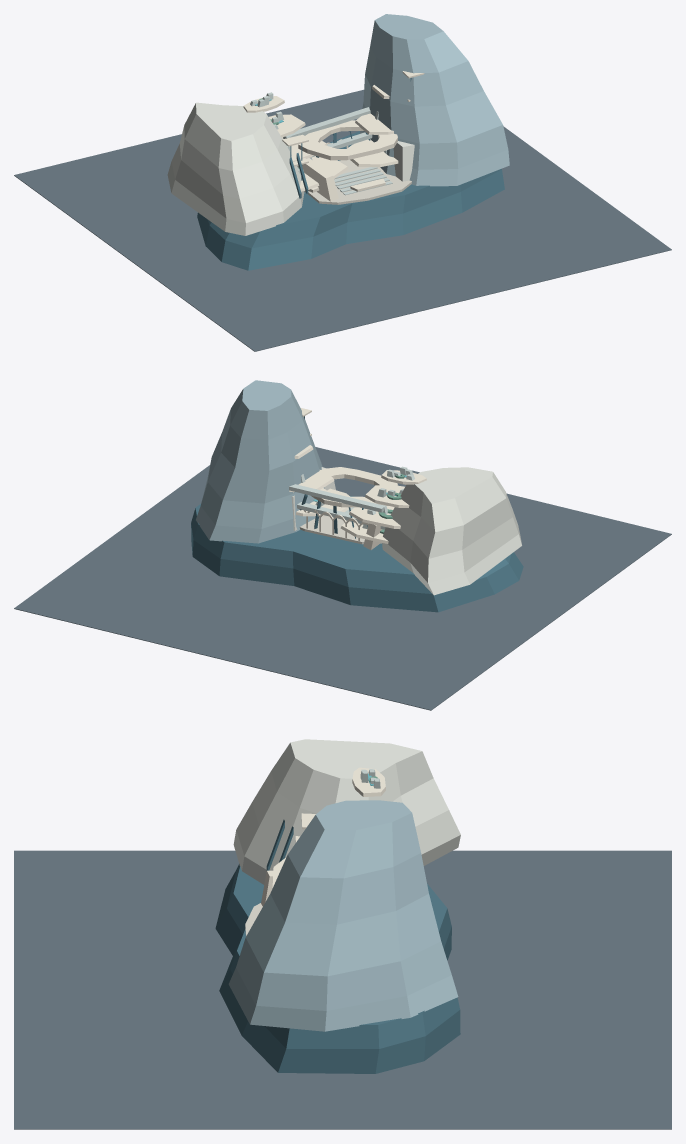
The model's file is J7R7_GUI_EDITED_ACTUAL_MODEL.glb.
3 views of the same model, one above another, from view 1: azimuth 30°, elevation 25°; view 2: azimuth 150°, elevation 25°; view 3: azimuth 270°, elevation 25° (orthographic). The views are drawn at different scales.
Visible parts, largest first — view 1: NONCANONICAL_GROUND_FRAME, 03_EAST_ASCENDING_INHABITED_ESCARPMENT, 02_WEST_INHABITED_ESCARPMENT, 01_SINGLE_INHABITED_CONTINENT_FOUNDATION, 04_HIGH_CIVIC_OCULUS, 04_GRAND_CIVIC_FORUM_ACTUAL_PUBLIC_FLOOR, 04_FORUM_WEST_GALLERY_OCCUPIABLE, 04_FORUM_EAST_GALLERY_OCCUPIABLE, THE_CITY_INNER_PUBLIC_RIM_1590, E_OCCUPIABLE_STREET_SHELF_0, W_OCCUPIABLE_STREET_SHELF_0; view 2: NONCANONICAL_GROUND_FRAME, 03_EAST_ASCENDING_INHABITED_ESCARPMENT, 01_SINGLE_INHABITED_CONTINENT_FOUNDATION, 02_WEST_INHABITED_ESCARPMENT, 04_HIGH_CIVIC_OCULUS, THE_CITY_INNER_PUBLIC_RIM_1590, 04_GRAND_CIVIC_FORUM_ACTUAL_PUBLIC_FLOOR, W_OCCUPIABLE_STREET_SHELF_1, W_OCCUPIABLE_STREET_SHELF_2; view 3: NONCANONICAL_GROUND_FRAME, 03_EAST_ASCENDING_INHABITED_ESCARPMENT, 02_WEST_INHABITED_ESCARPMENT, 01_SINGLE_INHABITED_CONTINENT_FOUNDATION, W_OCCUPIABLE_STREET_SHELF_3.
Part boxes in pixels (left/top/right/bottom): NONCANONICAL_GROUND_FRAME: left=14, top=89, right=671, bottom=351; 03_EAST_ASCENDING_INHABITED_ESCARPMENT: left=360, top=14, right=509, bottom=186; 02_WEST_INHABITED_ESCARPMENT: left=167, top=102, right=304, bottom=235; 01_SINGLE_INHABITED_CONTINENT_FOUNDATION: left=197, top=131, right=504, bottom=270; 04_HIGH_CIVIC_OCULUS: left=298, top=120, right=397, bottom=160; 04_GRAND_CIVIC_FORUM_ACTUAL_PUBLIC_FLOOR: left=304, top=159, right=411, bottom=204; 04_FORUM_WEST_GALLERY_OCCUPIABLE: left=297, top=158, right=338, bottom=201; 04_FORUM_EAST_GALLERY_OCCUPIABLE: left=393, top=141, right=414, bottom=181; THE_CITY_INNER_PUBLIC_RIM_1590: left=283, top=107, right=370, bottom=138; E_OCCUPIABLE_STREET_SHELF_0: left=347, top=139, right=398, bottom=167; W_OCCUPIABLE_STREET_SHELF_0: left=300, top=156, right=348, bottom=191; NONCANONICAL_GROUND_FRAME: left=14, top=447, right=671, bottom=710; 03_EAST_ASCENDING_INHABITED_ESCARPMENT: left=196, top=380, right=324, bottom=543; 01_SINGLE_INHABITED_CONTINENT_FOUNDATION: left=191, top=495, right=523, bottom=612; 02_WEST_INHABITED_ESCARPMENT: left=382, top=467, right=521, bottom=595; 04_HIGH_CIVIC_OCULUS: left=311, top=467, right=397, bottom=507; THE_CITY_INNER_PUBLIC_RIM_1590: left=289, top=484, right=384, bottom=512; 04_GRAND_CIVIC_FORUM_ACTUAL_PUBLIC_FLOOR: left=299, top=516, right=381, bottom=544; W_OCCUPIABLE_STREET_SHELF_1: left=349, top=506, right=400, bottom=528; W_OCCUPIABLE_STREET_SHELF_2: left=365, top=485, right=409, bottom=507; NONCANONICAL_GROUND_FRAME: left=14, top=850, right=671, bottom=1129; 03_EAST_ASCENDING_INHABITED_ESCARPMENT: left=228, top=800, right=458, bottom=1031; 02_WEST_INHABITED_ESCARPMENT: left=233, top=739, right=460, bottom=884; 01_SINGLE_INHABITED_CONTINENT_FOUNDATION: left=215, top=864, right=460, bottom=1073; W_OCCUPIABLE_STREET_SHELF_3: left=352, top=767, right=385, bottom=796.
Size of the model in its own units: 10000 by 3750 by 10000.
